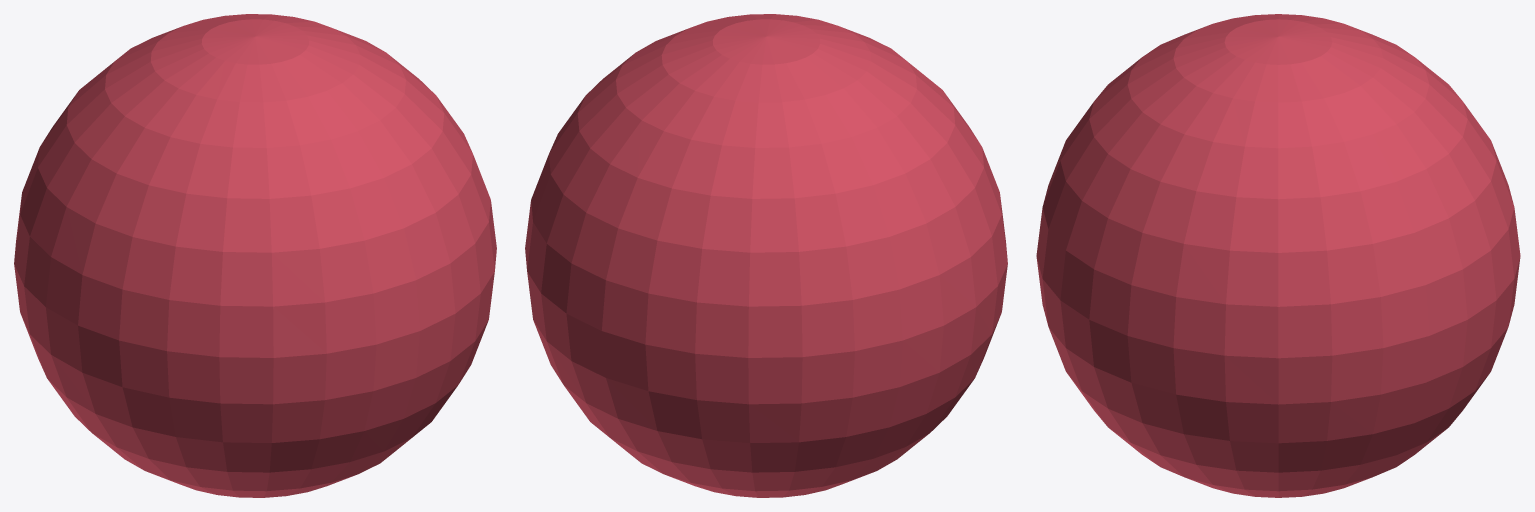
The model's file is orb.glb.
The picture shows the model from 3 angles, left to right: view 1: azimuth 30°, elevation 25°; view 2: azimuth 150°, elevation 25°; view 3: azimuth 270°, elevation 25°; orthographic projection.
Visible parts, largest first — view 1: Mesh_Mesh_head_geo.001_lambert2SG.001; view 2: Mesh_Mesh_head_geo.001_lambert2SG.001; view 3: Mesh_Mesh_head_geo.001_lambert2SG.001.
Boxes of the visible parts, x1,y1,x2,y2 form: Mesh_Mesh_head_geo.001_lambert2SG.001: (14, 14, 496, 497); Mesh_Mesh_head_geo.001_lambert2SG.001: (525, 14, 1007, 497); Mesh_Mesh_head_geo.001_lambert2SG.001: (1036, 14, 1520, 497).
Bounding box in the file's own units: 0.0218 × 0.0217 × 0.0218.
